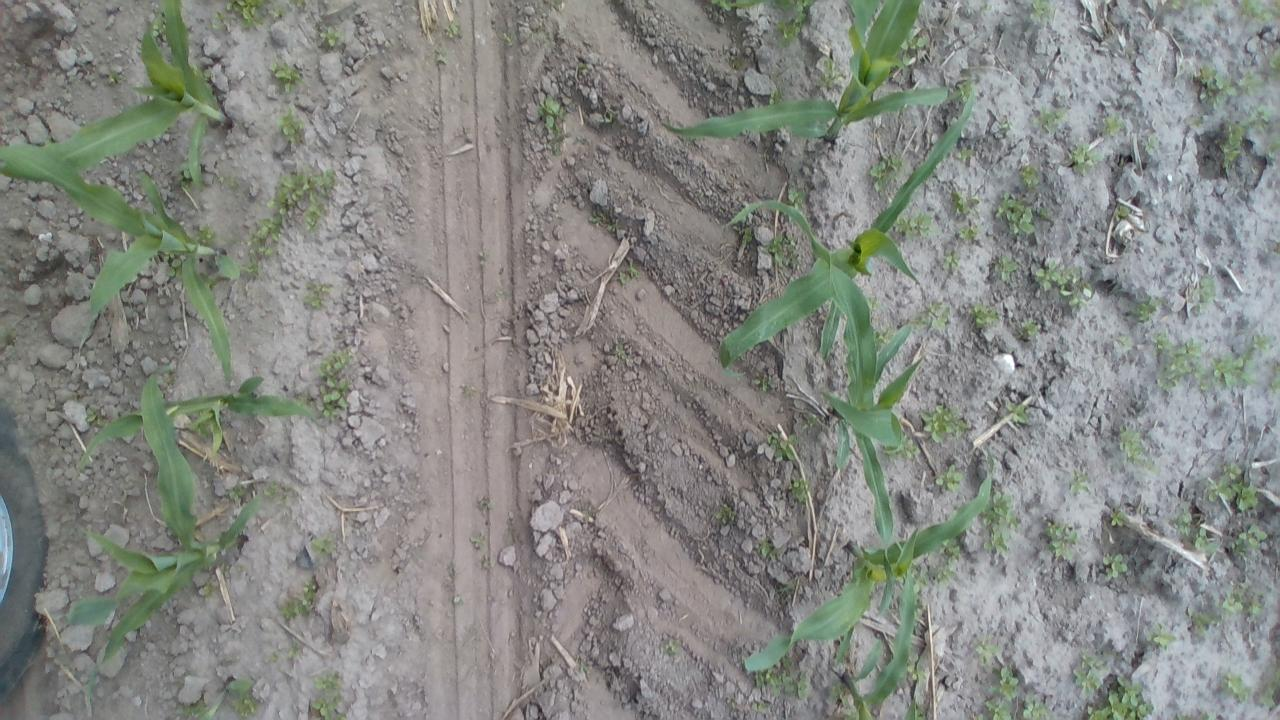Maize: (722, 192, 922, 620), (712, 75, 978, 382), (66, 369, 265, 694), (734, 442, 996, 682), (1, 137, 241, 384), (658, 0, 955, 147), (17, 0, 234, 197), (77, 362, 326, 486), (827, 570, 921, 720), (160, 673, 246, 720)
Weeds: (270, 166, 338, 238), (1034, 258, 1094, 306), (1082, 680, 1152, 720), (320, 346, 356, 420), (1206, 468, 1261, 512), (1158, 340, 1202, 392), (986, 490, 1020, 554), (1210, 351, 1261, 391), (920, 404, 969, 444), (994, 192, 1036, 238), (1194, 62, 1234, 110), (757, 664, 807, 702), (1115, 424, 1153, 467), (869, 152, 907, 194), (1043, 520, 1081, 562), (279, 580, 317, 620), (226, 1, 272, 30), (1219, 120, 1245, 171), (1072, 658, 1106, 696), (1013, 308, 1045, 346), (536, 96, 566, 136), (1231, 521, 1268, 553), (1186, 273, 1214, 315), (546, 132, 590, 158), (991, 666, 1021, 704), (252, 217, 281, 256), (894, 212, 939, 237), (764, 233, 798, 266), (966, 299, 1001, 331), (225, 694, 266, 720), (765, 430, 800, 460), (764, 62, 788, 105), (771, 0, 817, 22), (269, 62, 304, 90), (932, 463, 963, 494), (276, 111, 305, 144), (1258, 670, 1280, 713), (991, 252, 1020, 284), (1067, 144, 1100, 172), (211, 166, 245, 193), (1222, 666, 1248, 700), (1236, 0, 1280, 20), (769, 578, 800, 606), (1186, 607, 1218, 634), (772, 17, 802, 45), (314, 670, 346, 696), (1238, 585, 1264, 617), (302, 280, 330, 309), (1134, 294, 1163, 322), (818, 59, 846, 87), (1018, 697, 1052, 720), (306, 698, 345, 718), (974, 635, 1000, 665), (172, 158, 194, 191), (1265, 44, 1280, 92), (1034, 106, 1064, 130), (949, 189, 979, 213), (1145, 624, 1177, 646), (1194, 523, 1216, 555), (590, 209, 616, 236), (922, 302, 949, 328), (954, 221, 982, 246), (1066, 468, 1090, 497), (718, 46, 744, 72), (1102, 552, 1128, 578), (1248, 106, 1274, 132), (572, 650, 595, 679), (1173, 502, 1193, 534), (1183, 112, 1212, 134), (901, 432, 922, 462), (1148, 328, 1174, 352), (938, 538, 964, 562), (1028, 0, 1054, 24), (786, 181, 809, 208), (931, 564, 958, 587), (1240, 68, 1262, 96), (580, 498, 600, 528), (311, 534, 336, 558), (902, 34, 926, 59), (318, 25, 342, 50), (494, 21, 516, 48), (1138, 127, 1157, 158), (1004, 401, 1027, 426), (466, 525, 488, 551), (979, 703, 1012, 720), (164, 252, 184, 280), (608, 339, 632, 362), (1100, 114, 1125, 136), (180, 702, 212, 718), (956, 140, 977, 164), (758, 537, 778, 562), (788, 478, 808, 503), (283, 638, 302, 664), (1251, 330, 1273, 352), (1218, 593, 1240, 615), (199, 576, 215, 606), (714, 500, 734, 524), (662, 633, 682, 657), (542, 0, 568, 18), (906, 656, 924, 682), (194, 224, 217, 244), (941, 249, 961, 272), (265, 481, 289, 500), (994, 116, 1019, 134), (475, 550, 495, 572), (617, 262, 639, 282), (210, 8, 228, 32), (476, 494, 496, 515), (956, 76, 974, 99), (871, 322, 888, 346), (1112, 329, 1132, 349), (801, 411, 821, 431), (1020, 164, 1040, 184), (1108, 508, 1129, 527), (262, 644, 280, 666), (163, 366, 179, 390), (444, 19, 463, 39), (906, 698, 925, 718), (241, 256, 260, 276), (1265, 133, 1280, 158), (104, 68, 121, 90), (706, 0, 734, 13), (0, 324, 13, 352), (867, 293, 885, 313), (1114, 203, 1132, 223), (268, 1, 285, 22), (1186, 0, 1224, 9), (602, 106, 620, 125), (227, 483, 245, 502), (752, 701, 776, 715), (755, 375, 773, 393), (83, 408, 101, 426), (434, 47, 448, 70), (740, 226, 756, 246), (1269, 369, 1280, 395), (575, 57, 591, 74), (829, 686, 846, 702), (460, 383, 474, 402), (285, 0, 311, 10), (451, 592, 464, 610), (494, 288, 512, 300), (1167, 0, 1183, 13), (978, 1, 992, 15), (1169, 710, 1186, 720), (1198, 710, 1214, 720)
